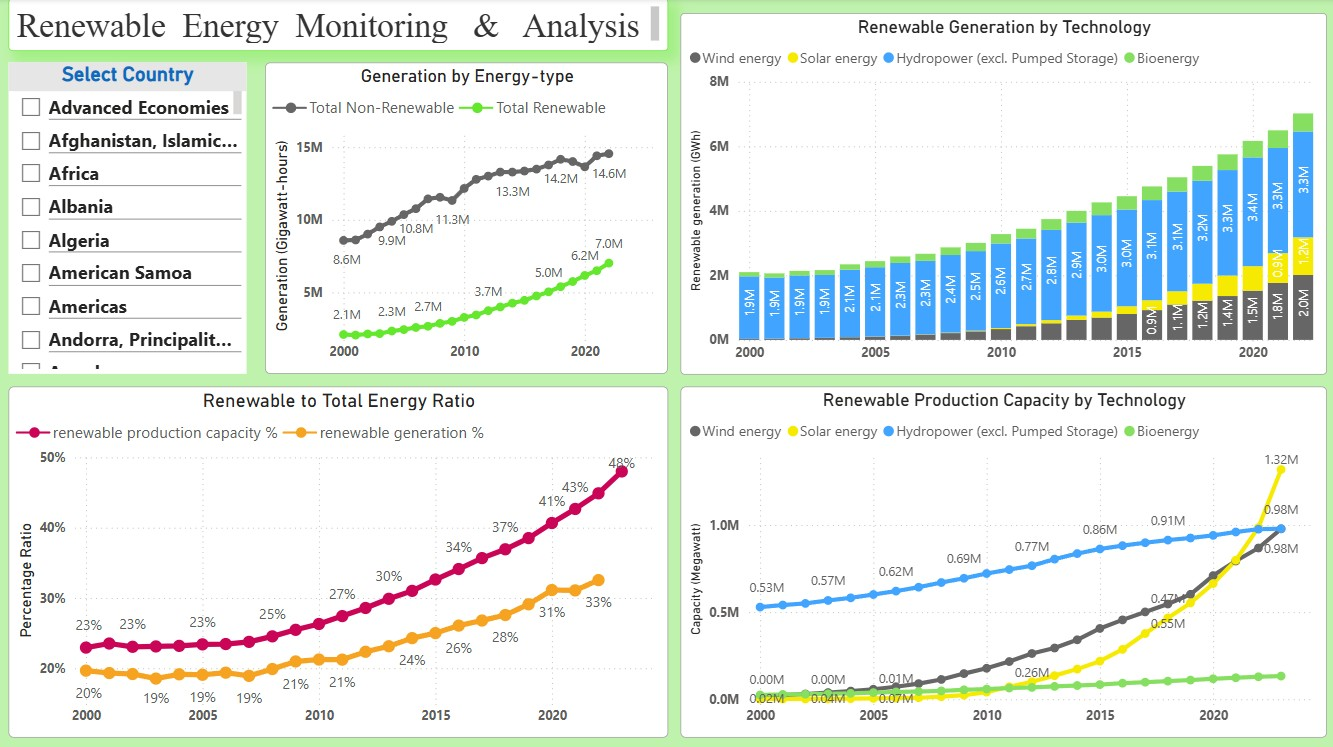

The dashboard page shown, as its layout file describes it:
{"tool":"powerbi","page":{"name":"Page 8","canvas":[1280,720],"ordinal":7},"visuals":[{"type":"textbox","box":[9.5,0,629.9,50.9],"z":0},{"type":"lineChart","title":"Renewable to Total Energy Ratio","fields":{"Category":["Renewable_Energy.Year"],"Y":["Renewable_Energy.renewable production capacity %","Renewable_Energy.renewable generation %"]},"box":[9.5,370.6,629.9,335.6],"z":1},{"type":"lineChart","title":"Generation by Energy-type","fields":{"Category":["Renewable_Energy.Year"],"Y":["Renewable_Energy.generation"],"Series":["Renewable_Energy.Energy_Type"]},"box":[254.5,62,384.9,297.4],"z":2},{"type":"columnChart","title":"Renewable Generation by Technology","fields":{"Category":["Renewable_Energy.Year"],"Y":["Renewable_Energy.renewable generation"],"Series":["Renewable_Energy.Technology"]},"box":[652.2,14.3,617.2,345.2],"z":3},{"type":"lineChart","title":"Renewable Production Capacity by Technology","fields":{"Category":["Renewable_Energy.Year"],"Series":["Renewable_Energy.Technology"],"Y":["Renewable_Energy.renewable production capacity"]},"box":[652.2,370.6,617.2,335.6],"z":4},{"type":"slicer","title":" Select Country","fields":{"Values":["Renewable_Energy.Country"]},"box":[9.5,62,227.5,297.4],"z":5}]}

Visuals, with their boxes in screenshot pixels (x1, y1, x2, y2), scaled from the page's 1280x720 canvas onto the 1333x747 screenshot:
textbox: box=[10, 0, 666, 53]
"Renewable to Total Energy Ratio" lineChart: box=[10, 384, 666, 733]
"Generation by Energy-type" lineChart: box=[265, 64, 666, 373]
"Renewable Generation by Technology" columnChart: box=[679, 15, 1322, 373]
"Renewable Production Capacity by Technology" lineChart: box=[679, 384, 1322, 733]
" Select Country" slicer: box=[10, 64, 247, 373]
